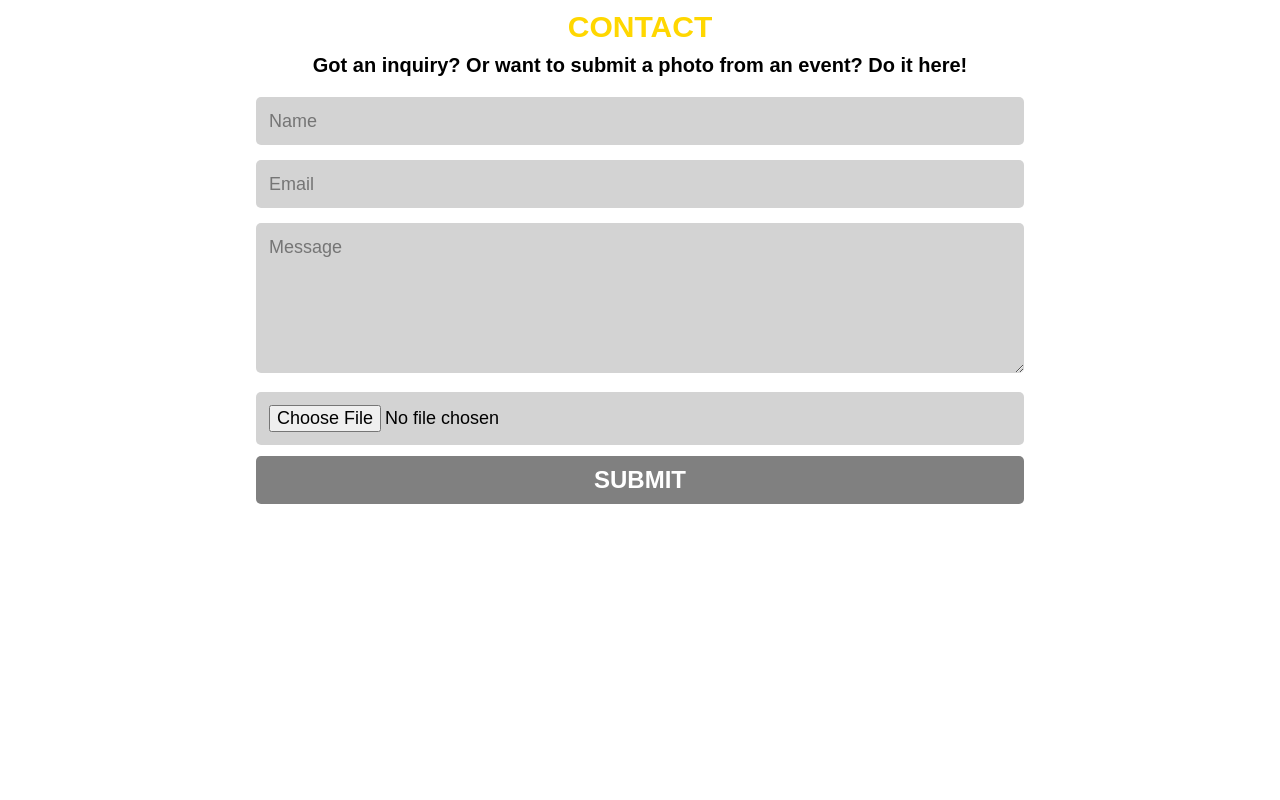
Test: ContactForm › displays error message when submitting form with empty fields
# Click the submit button without filling in any fields
Step 1. Click the button "SUBMIT" → click(640, 480), box [256,456,1024,504]
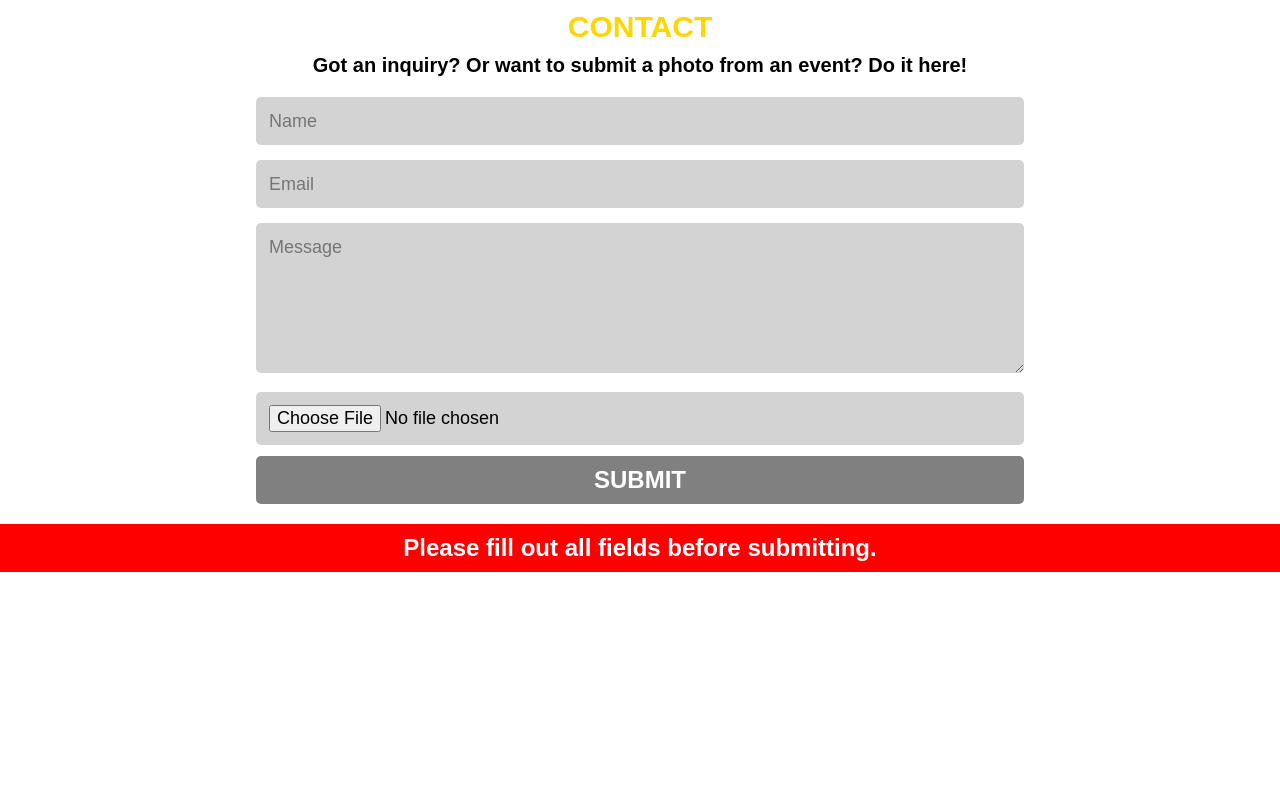
Expected: the text "Please fill out all fields before submitting." is shown, [403,534,877,561]
